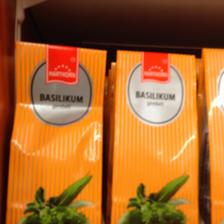Gewuerze: (6, 40, 106, 222), (108, 47, 200, 223)
